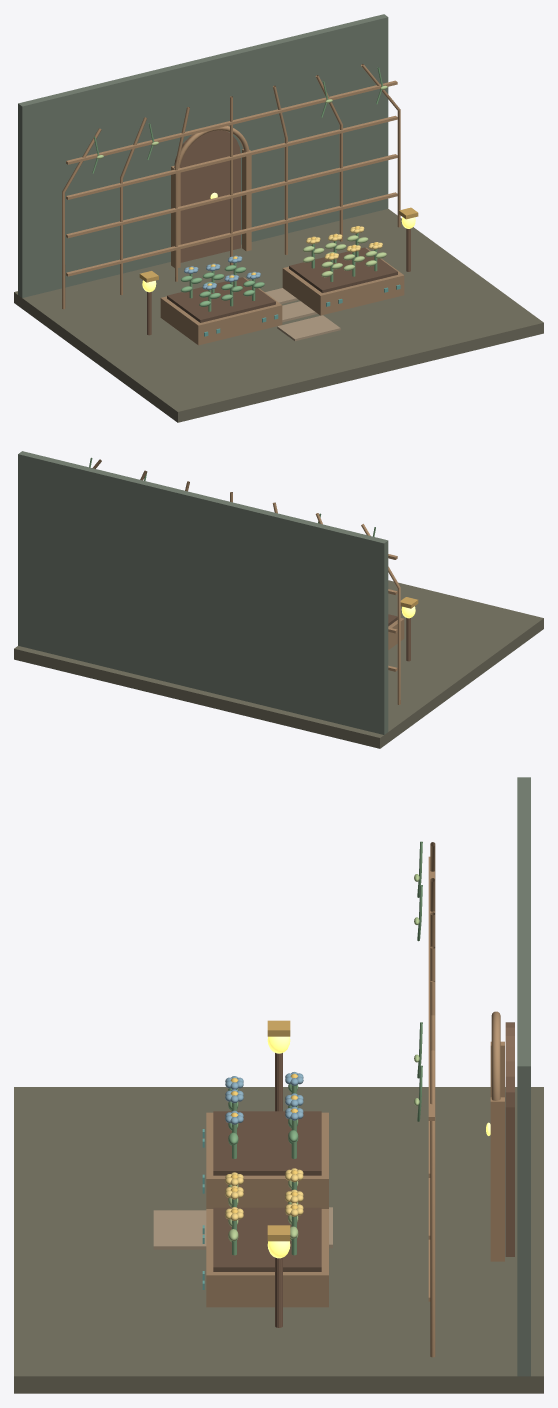
Rendered from mist-garden.glb.
3 renders of one model, top to bottom at view 1: azimuth 30°, elevation 25°; view 2: azimuth 150°, elevation 25°; view 3: azimuth 270°, elevation 25°, orthographic. The views are drawn at different scales.
Parts seen in each view (by area): view 1: Greenhouse back wall, Garden floor, Garden exit door, Starflower bed carved planter, Moonbean bed carved planter, Starflower bed soil, Moonbean bed soil, Greenhouse cross rail, Greenhouse cross rail.001, Greenhouse cross rail.002, Greenhouse cross rail.003, Garden path stone 1 (+8 smaller); view 2: Greenhouse back wall, Garden floor, Greenhouse brass rib; view 3: Garden floor, Greenhouse back wall, Moonbean bed soil, Starflower bed soil, Starflower bed carved planter, Moonbean bed carved planter, Garden door frame.001, Garden exit door, Garden path stone 1, Greenhouse brass rib.006, Greenhouse cross rail.003, Garden door arch trim.
Boxes of the visible parts, x1,y1,x2,y2 form: Greenhouse back wall: [18, 14, 388, 297]; Garden floor: [14, 209, 543, 422]; Garden exit door: [174, 130, 240, 262]; Starflower bed carved planter: [282, 247, 404, 315]; Moonbean bed carved planter: [160, 277, 282, 345]; Starflower bed soil: [289, 247, 397, 292]; Moonbean bed soil: [167, 277, 275, 322]; Greenhouse cross rail: [66, 192, 397, 276]; Greenhouse cross rail.001: [66, 154, 397, 238]; Greenhouse cross rail.002: [66, 115, 397, 199]; Greenhouse cross rail.003: [66, 80, 397, 164]; Garden path stone 1: [277, 315, 340, 341]; Greenhouse back wall: [18, 451, 388, 734]; Garden floor: [14, 580, 543, 748]; Greenhouse brass rib: [361, 524, 400, 704]; Garden floor: [14, 1087, 543, 1393]; Greenhouse back wall: [517, 777, 530, 1376]; Moonbean bed soil: [213, 1111, 321, 1175]; Starflower bed soil: [213, 1207, 321, 1271]; Starflower bed carved planter: [206, 1209, 328, 1307]; Moonbean bed carved planter: [206, 1112, 328, 1208]; Garden door frame.001: [490, 1097, 504, 1261]; Garden exit door: [505, 1022, 514, 1256]; Garden path stone 1: [153, 1210, 206, 1249]; Greenhouse brass rib.006: [430, 1050, 435, 1357]; Greenhouse cross rail.003: [428, 856, 434, 1120]; Garden door arch trim: [491, 1011, 500, 1100].
Bounding box in the file's own units: 12 × 6.34 × 9.3.
